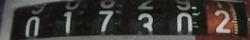digits: (214, 10, 231, 32), (24, 15, 40, 36), (176, 12, 192, 32), (98, 10, 113, 30), (137, 12, 153, 30), (62, 10, 72, 32)
